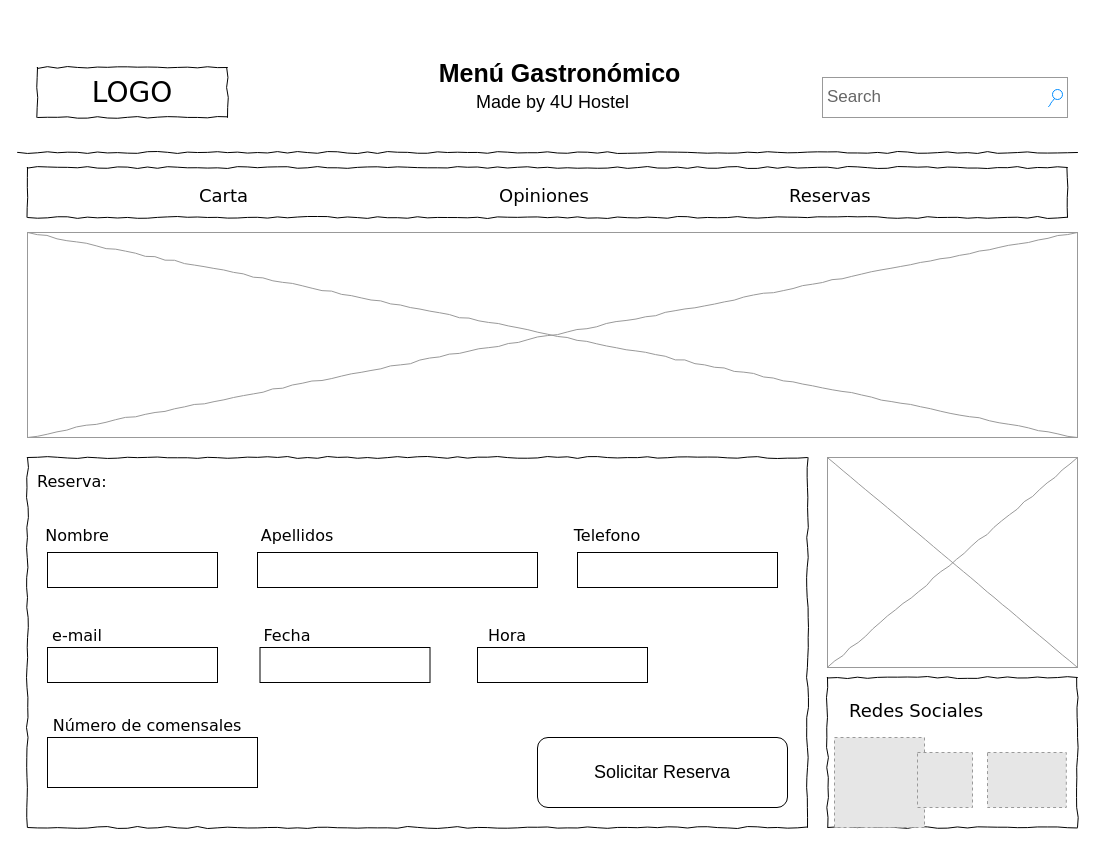
The diagram is 1095 pixels wide and 845 high, and some of its shapes have lost their labels. Grey dashed boxes stand in for pictures. Here are the shapes that lost their labels. From the top down, the centre of each, then its label:
pixel 552 335: ¿Nos acompañas a tu cita con la gastronomía de Granada?
pixel 952 562: Galería de Fotos (redirige a carta)
